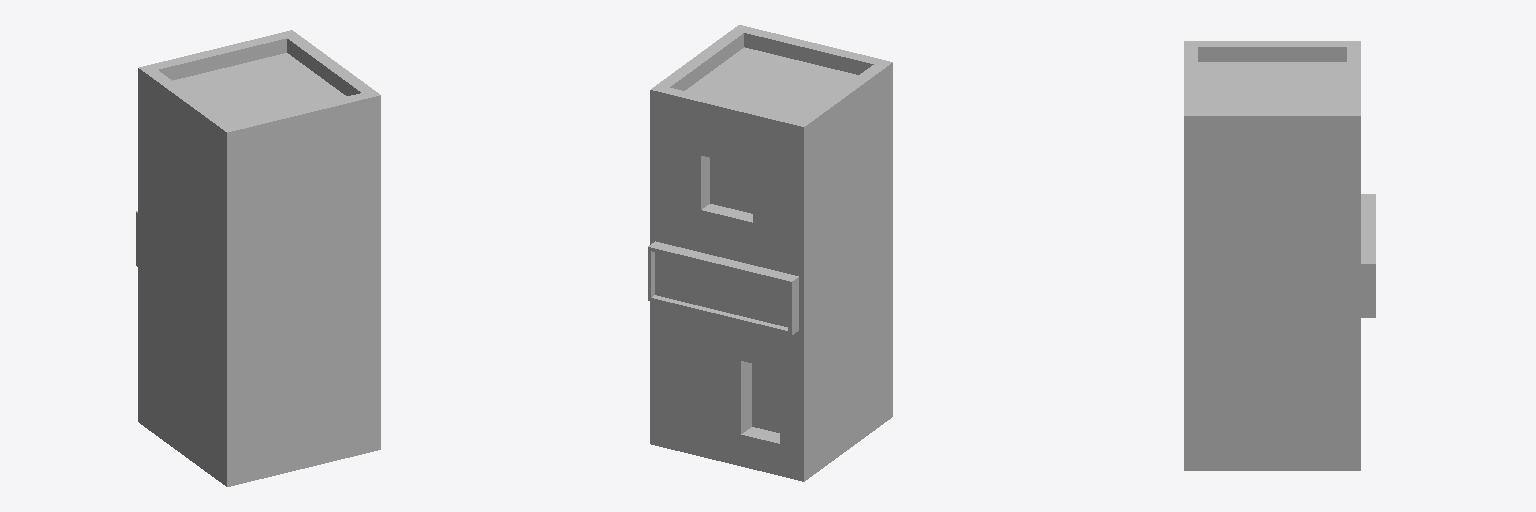
Rendered from building04.obj.
3 renders of one model, left to right at view 1: azimuth 30°, elevation 25°; view 2: azimuth 150°, elevation 25°; view 3: azimuth 270°, elevation 25°, orthographic.
Visible parts, largest first — view 1: Cube.001_Cube.002; view 2: Cube.001_Cube.002; view 3: Cube.001_Cube.002.
Boxes of the visible parts, x1,y1,x2,y2 form: Cube.001_Cube.002: [136, 30, 380, 486]; Cube.001_Cube.002: [648, 25, 892, 481]; Cube.001_Cube.002: [1184, 41, 1375, 470].
Size of the model in its own units: 1 by 2.2 by 1.08.